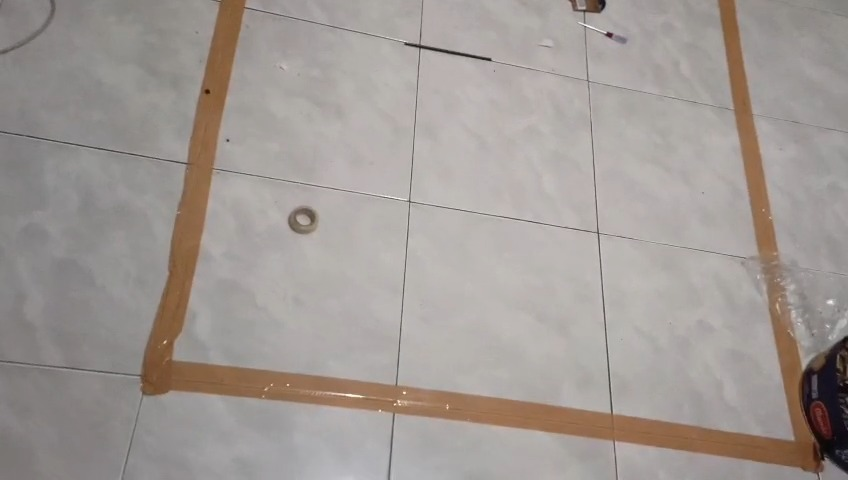floor marking: (142, 0, 820, 472), (718, 0, 777, 259)
